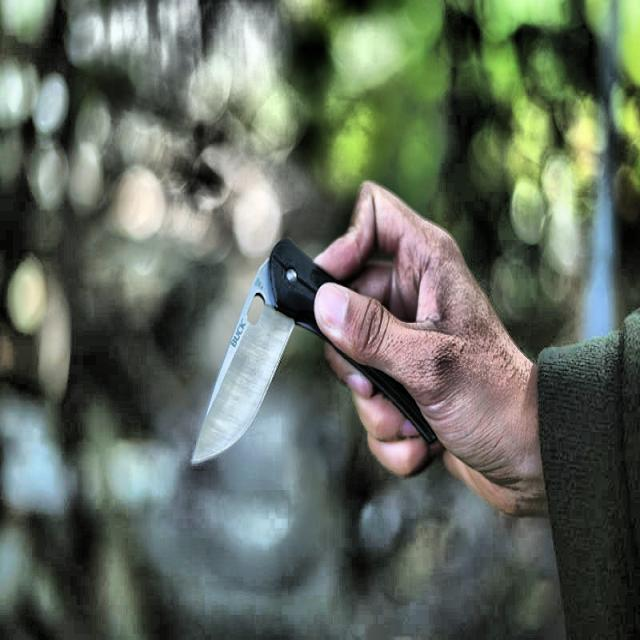knife: (192, 240, 434, 464)
